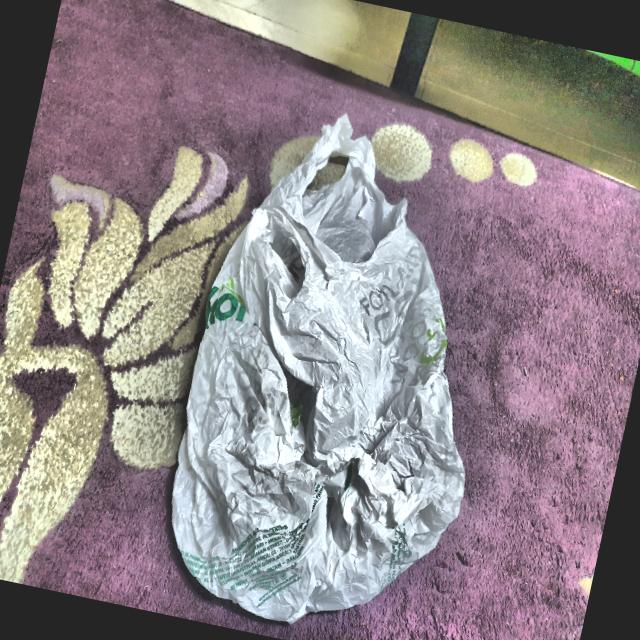plastic bag: (136, 85, 558, 640)
